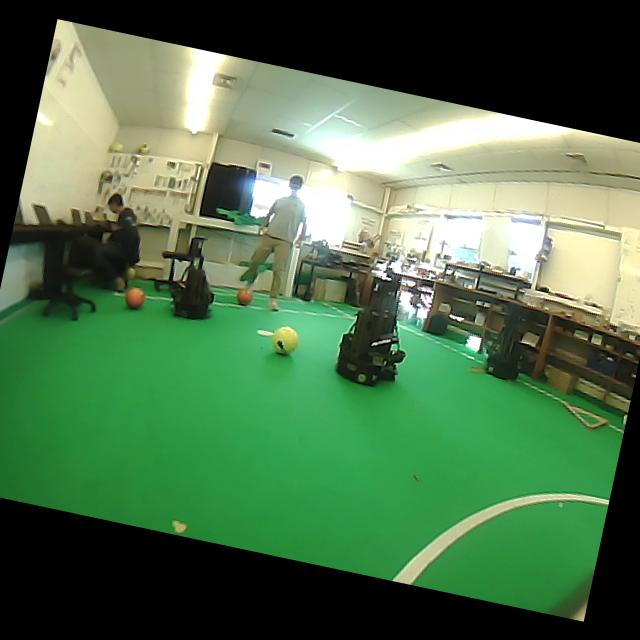ball: (271, 326, 299, 354), (125, 286, 144, 309), (236, 288, 251, 305), (124, 267, 136, 280), (109, 141, 123, 152), (136, 143, 150, 154)
robot: (335, 275, 405, 384), (171, 237, 212, 318), (485, 306, 521, 380)
